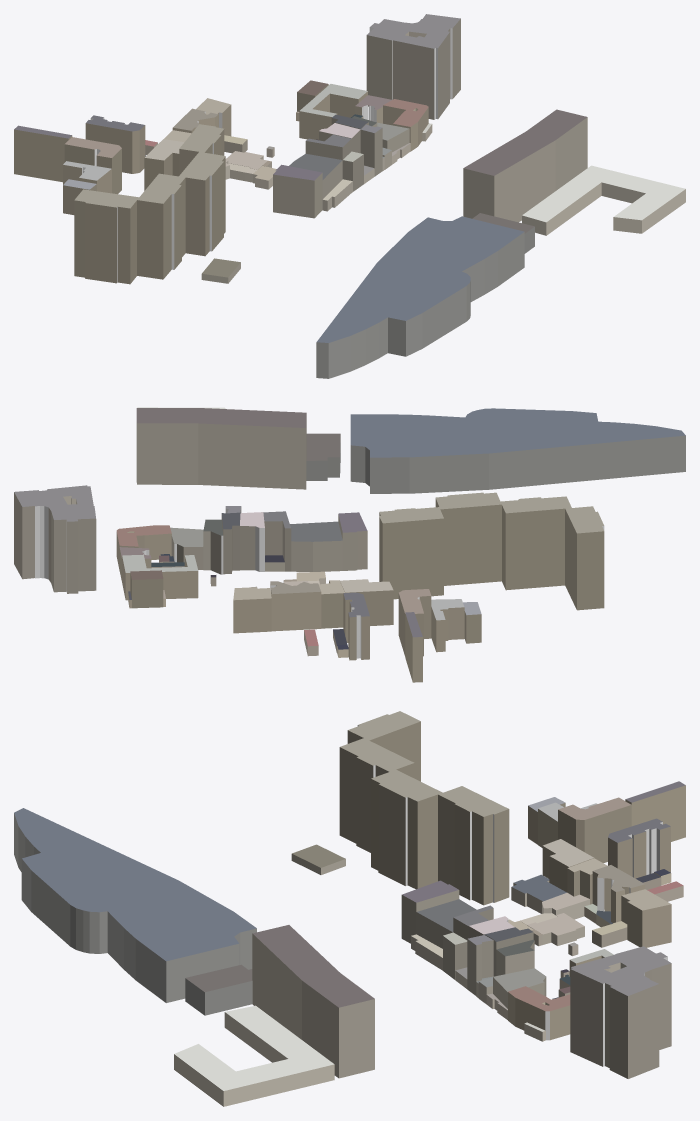
3 views of the same model, one above another, from view 1: azimuth 30°, elevation 25°; view 2: azimuth 150°, elevation 25°; view 3: azimuth 270°, elevation 25° (orthographic). The views are drawn at different scales.
Visible parts, largest first — view 1: tuile; view 2: tuile; view 3: tuile.
Boxes of the visible parts, bbox=[...] form: tuile: bbox=[14, 14, 685, 378]; tuile: bbox=[14, 407, 685, 682]; tuile: bbox=[14, 711, 685, 1106].
Size of the model in its own units: 323 by 45.72 by 301.
